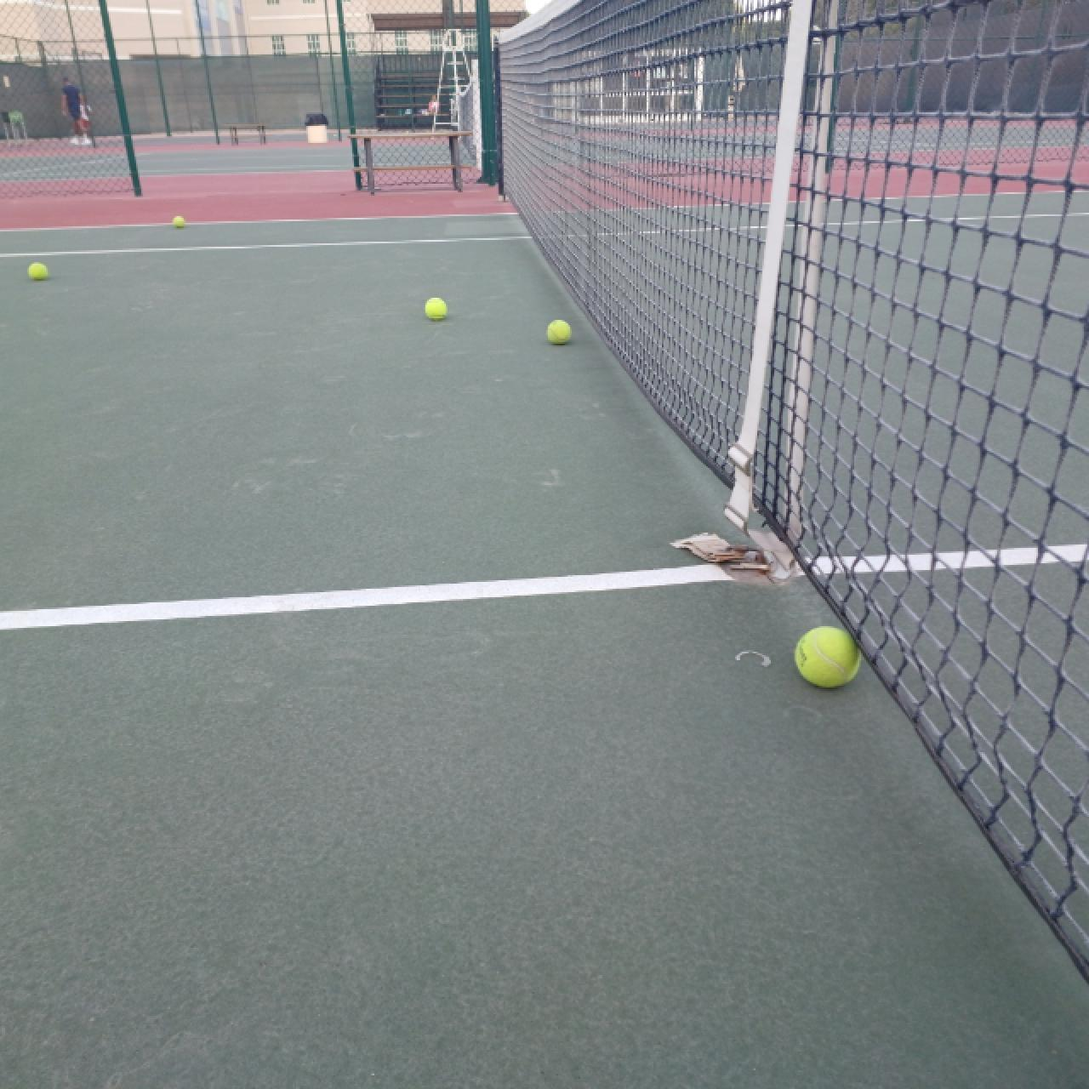tennis-ball: (793, 626, 863, 690), (420, 294, 452, 322), (25, 258, 53, 285), (544, 317, 571, 343), (170, 215, 187, 232)
